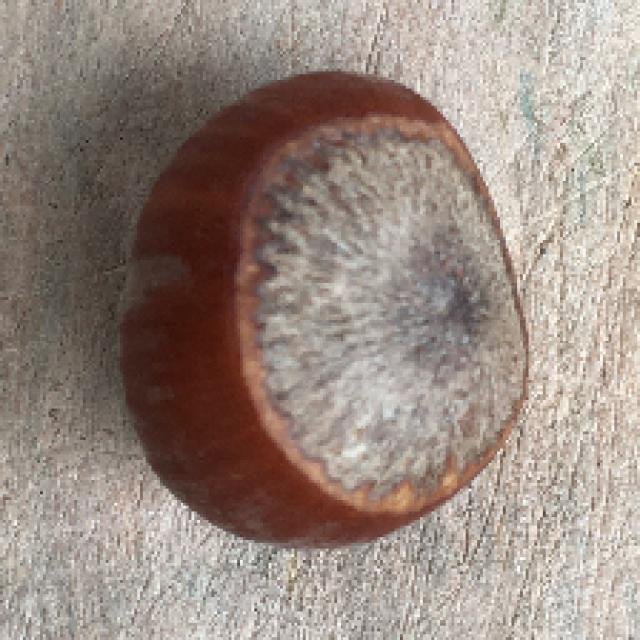qualityHazelnut: (92, 66, 535, 554)
